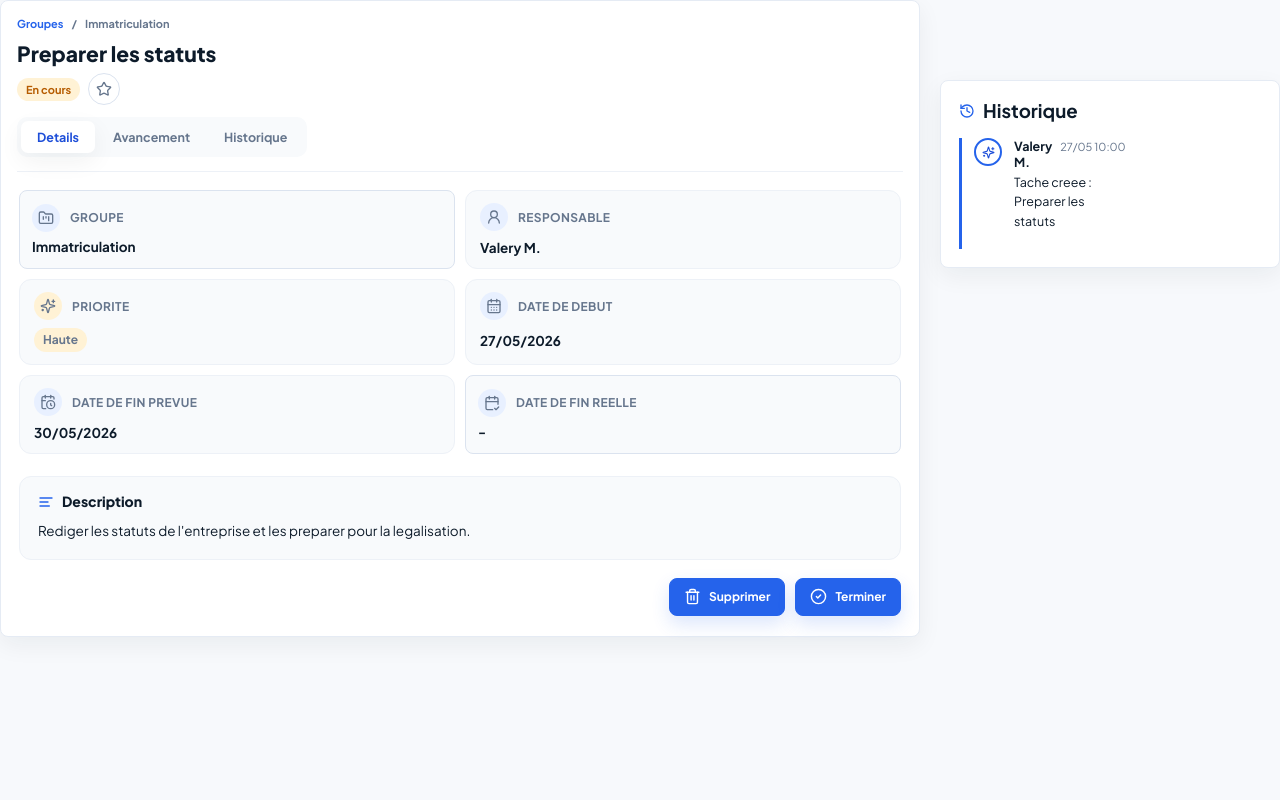
Test: TaskDetail › edits the title inline and retries after a failed update
The image size is (1280, 800).
Click the button with aria-label "Modifier l'intitule" at (117, 54), box [9, 38, 911, 70]
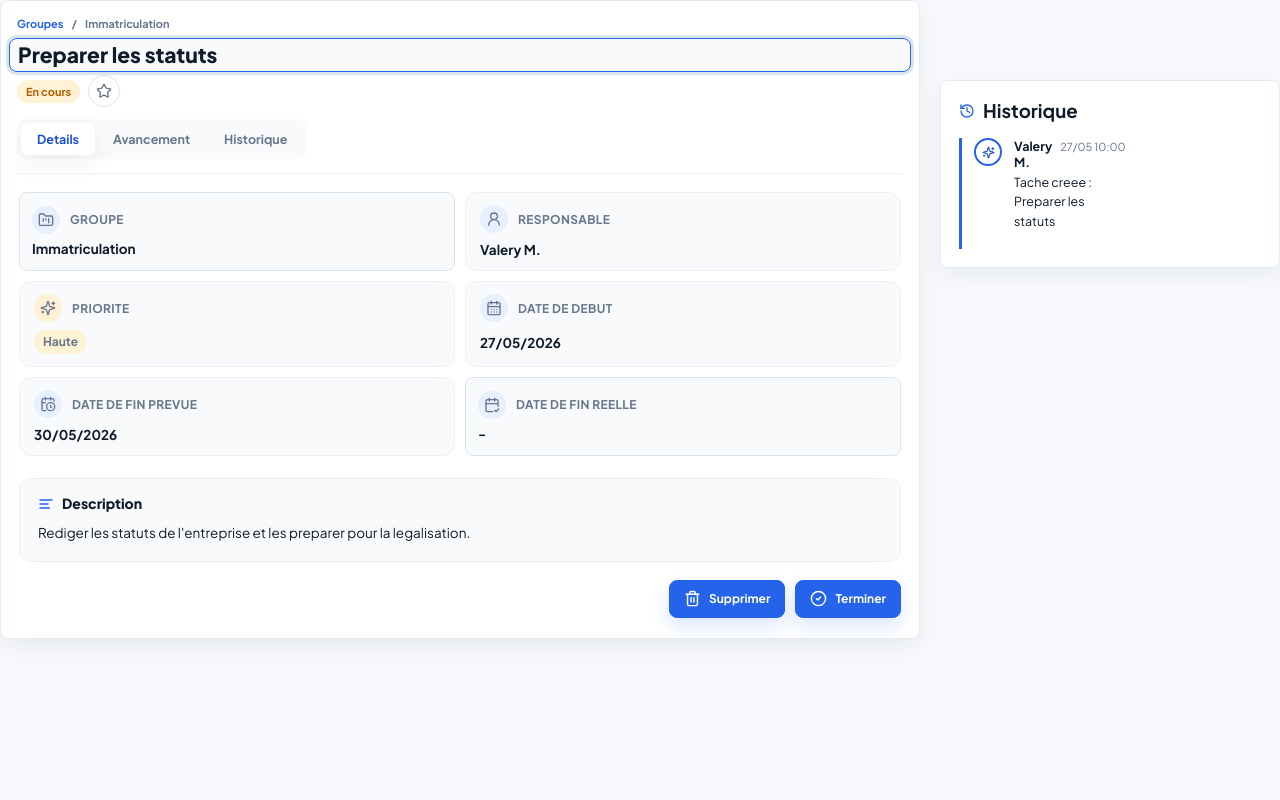
Replace the text in the field showing "Preparer les statuts" with "Preparer les statuts modifies" at (460, 55), box [9, 38, 911, 72]
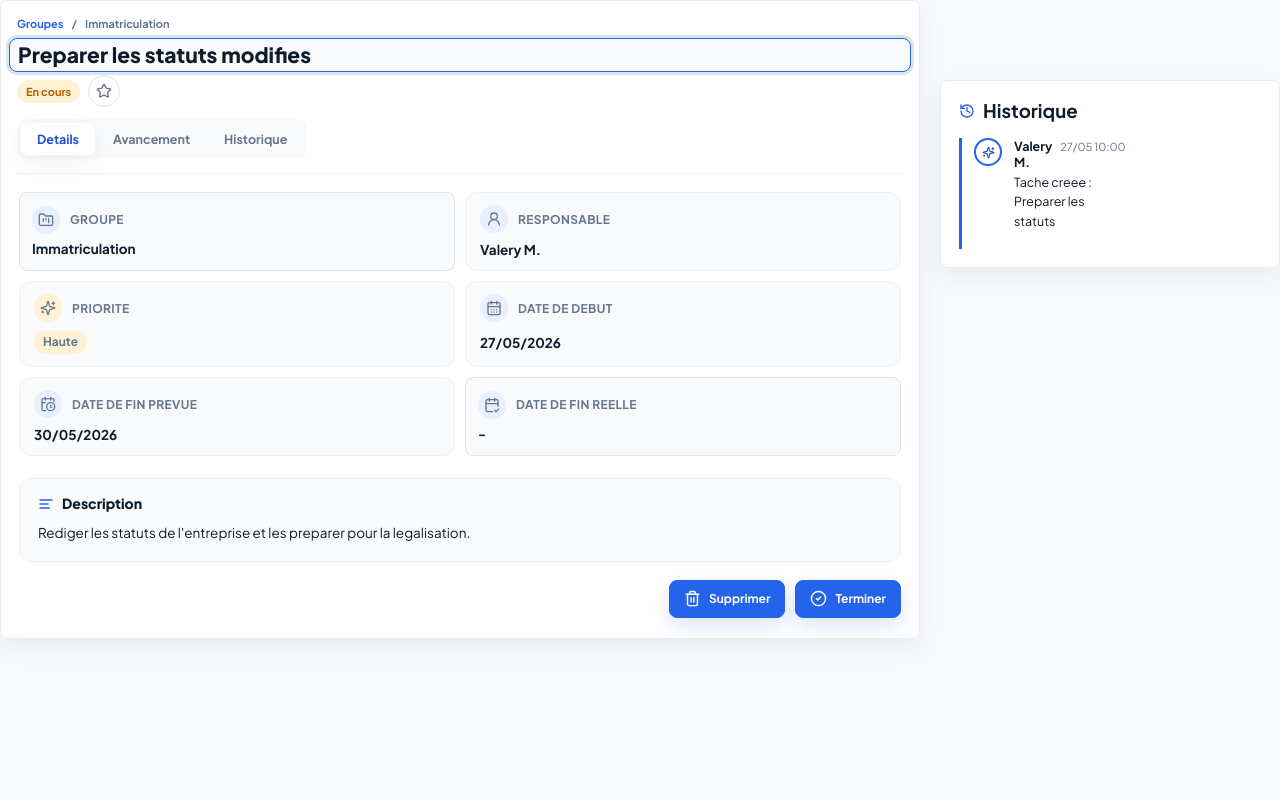
Leave the field showing "Preparer les statuts", box [9, 38, 911, 72]
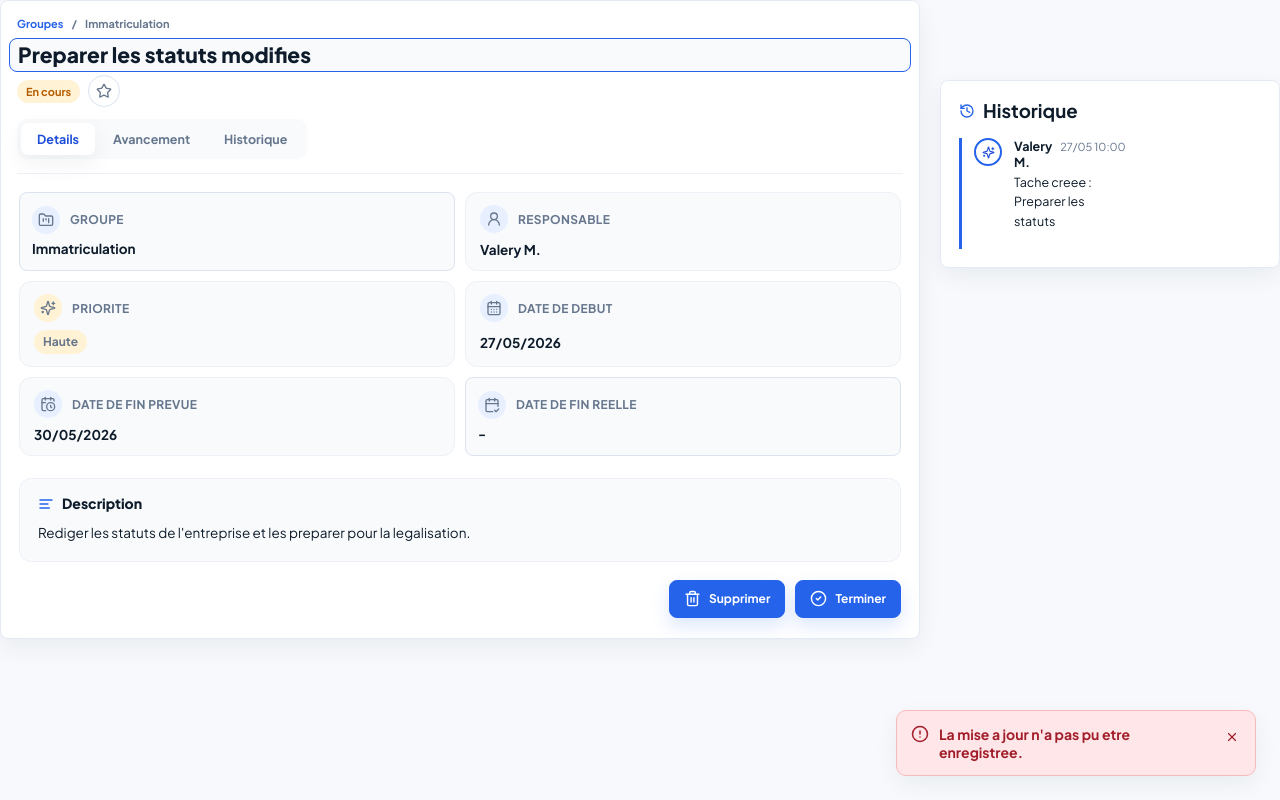
expect the text "La mise a jour n'a pas pu etre enregistree." is shown: met, box [939, 725, 1130, 761]
Leave the field showing "Preparer les statuts", box [9, 38, 911, 72]
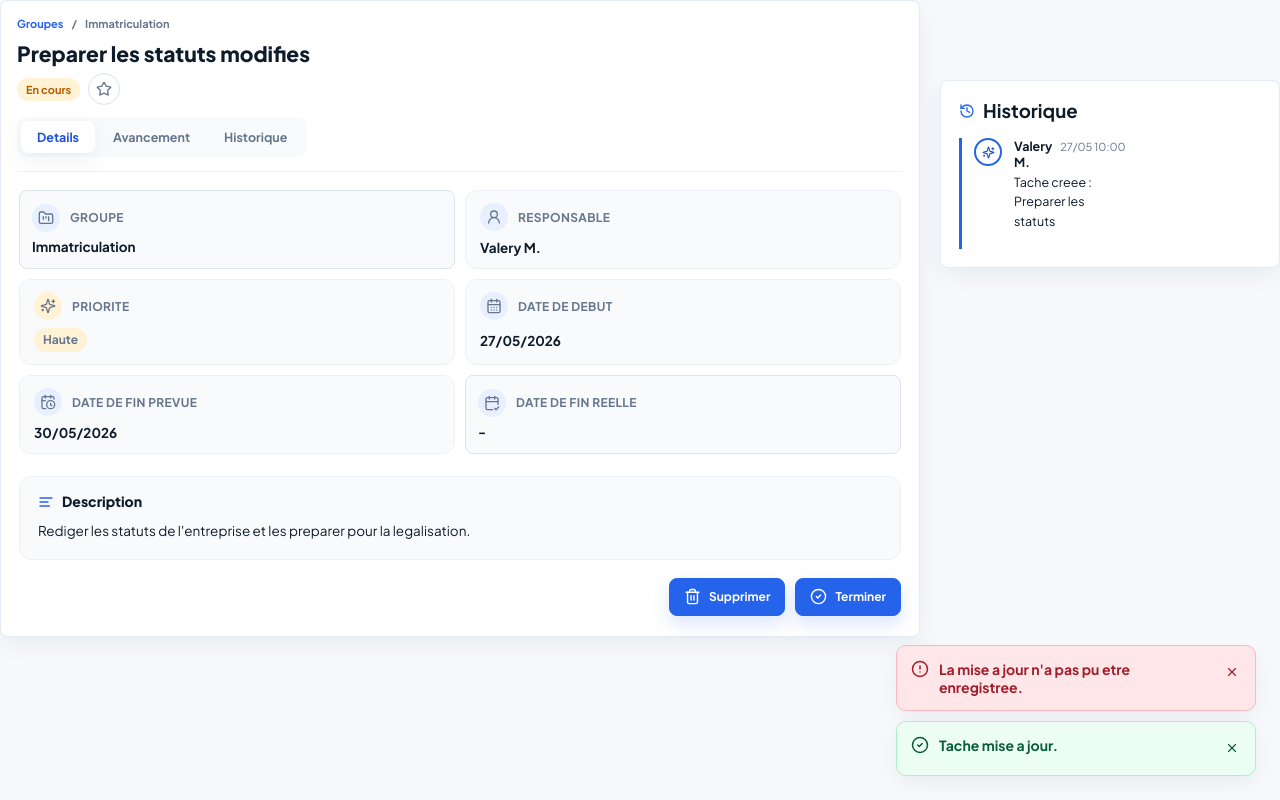
expect the heading "Preparer les statuts modifies" is shown: met, box [17, 40, 310, 67]
